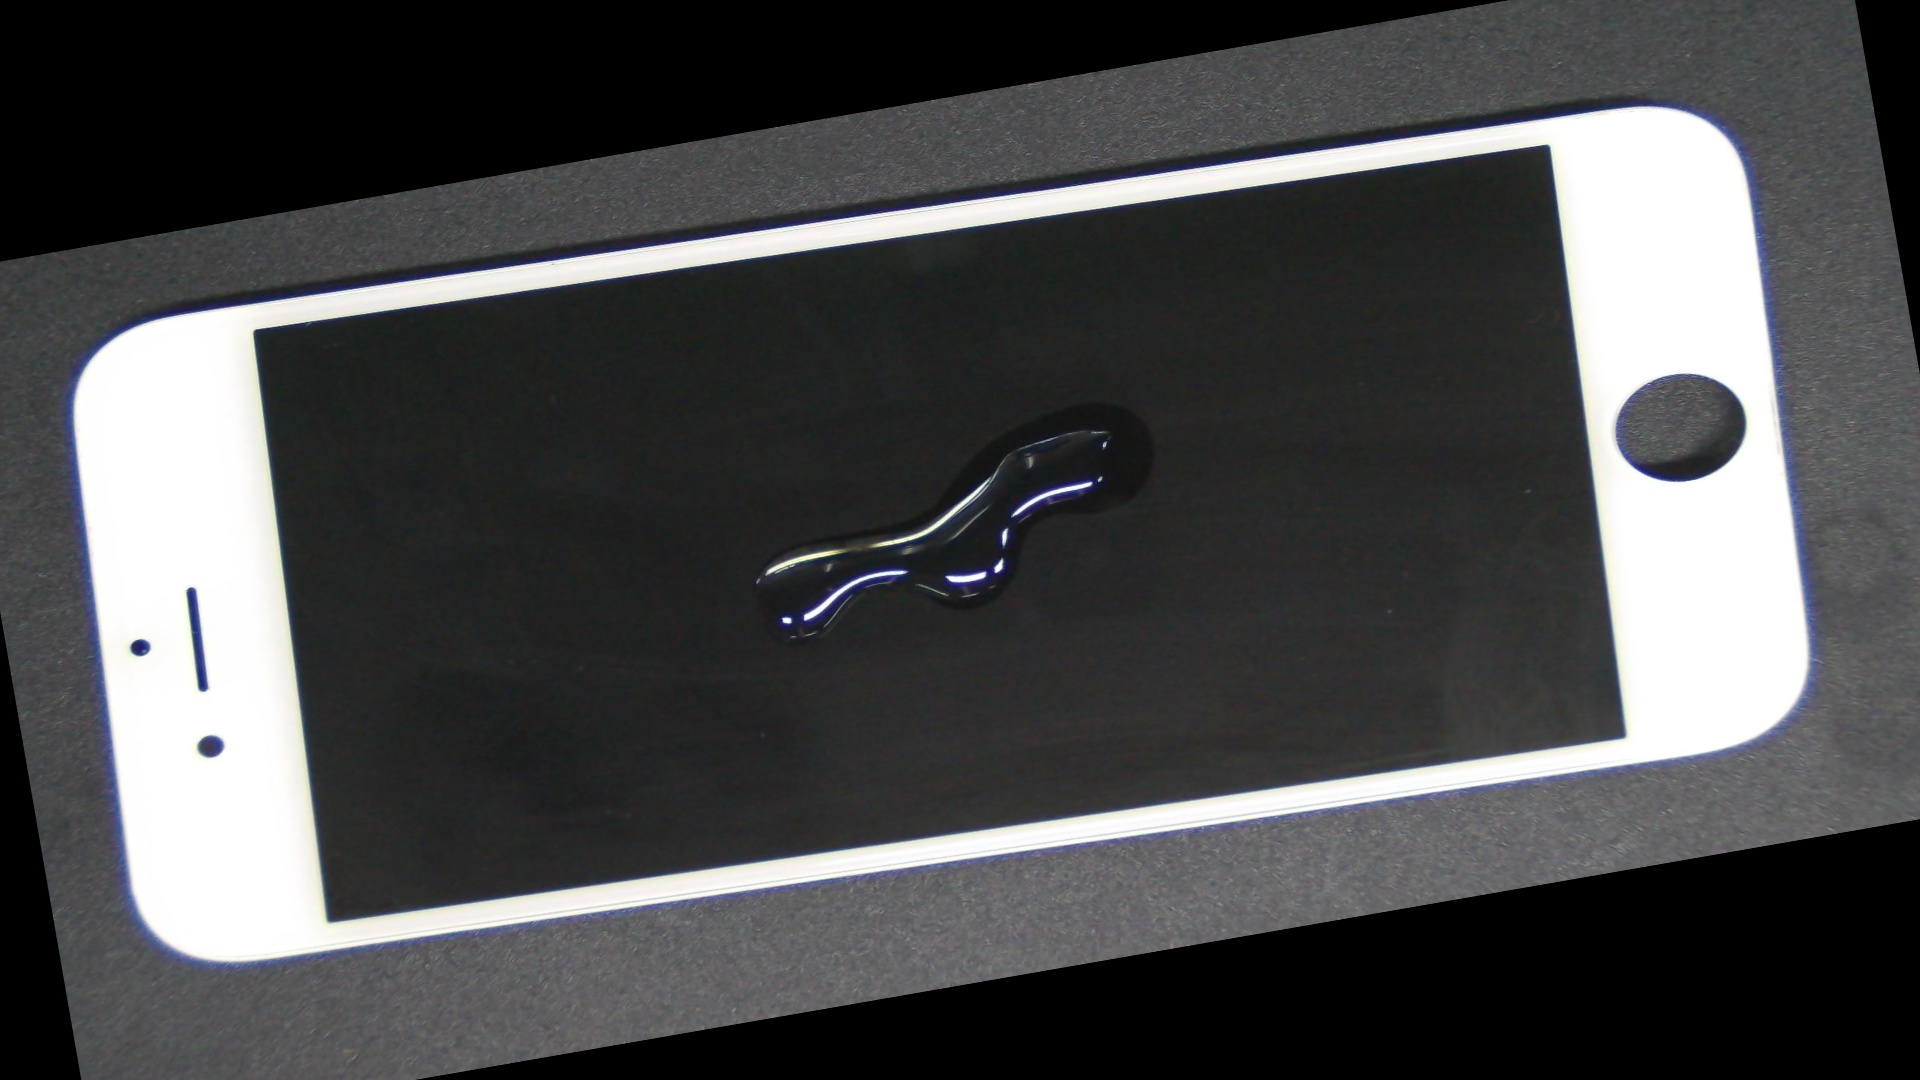oil: (510, 150, 1648, 657)
